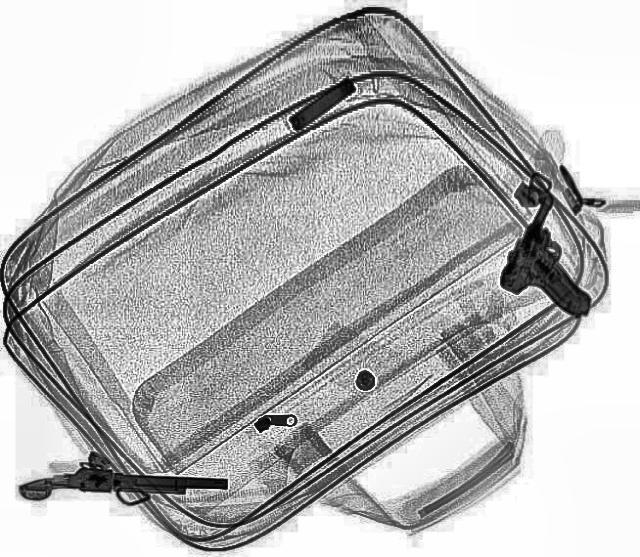Gun: (489, 190, 631, 320), (17, 470, 229, 500)
